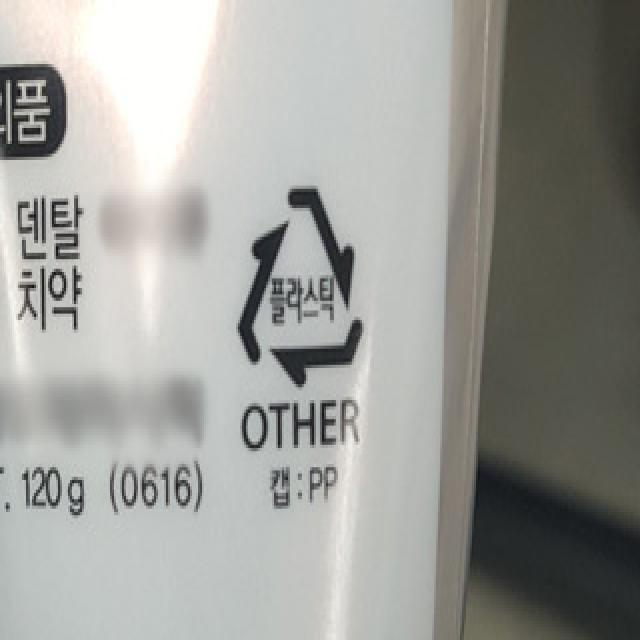Plastic: (233, 180, 367, 390)
